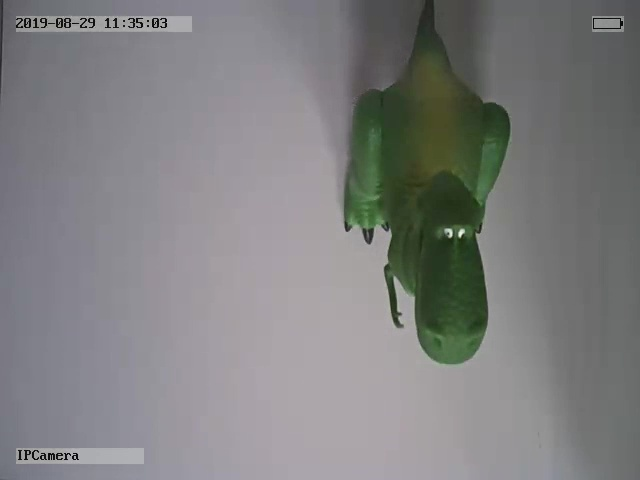rex: (342, 4, 513, 368)
